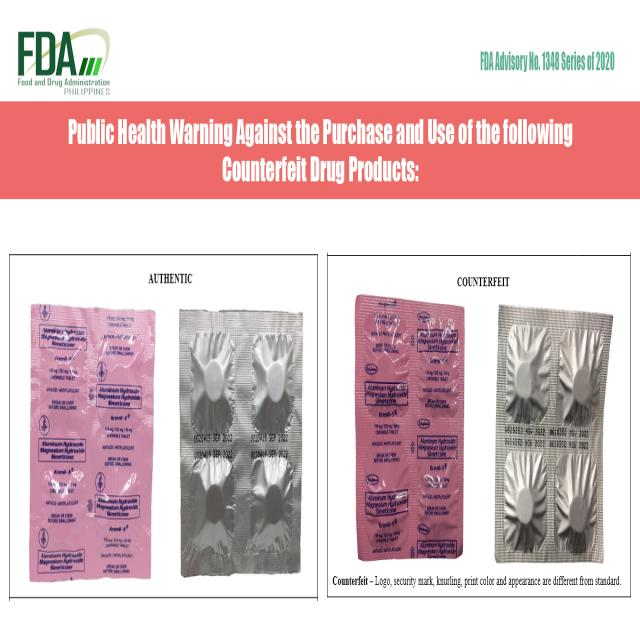authentic: (21, 298, 158, 584), (176, 304, 304, 578)
counterfeit: (494, 294, 614, 568), (351, 289, 468, 563)
